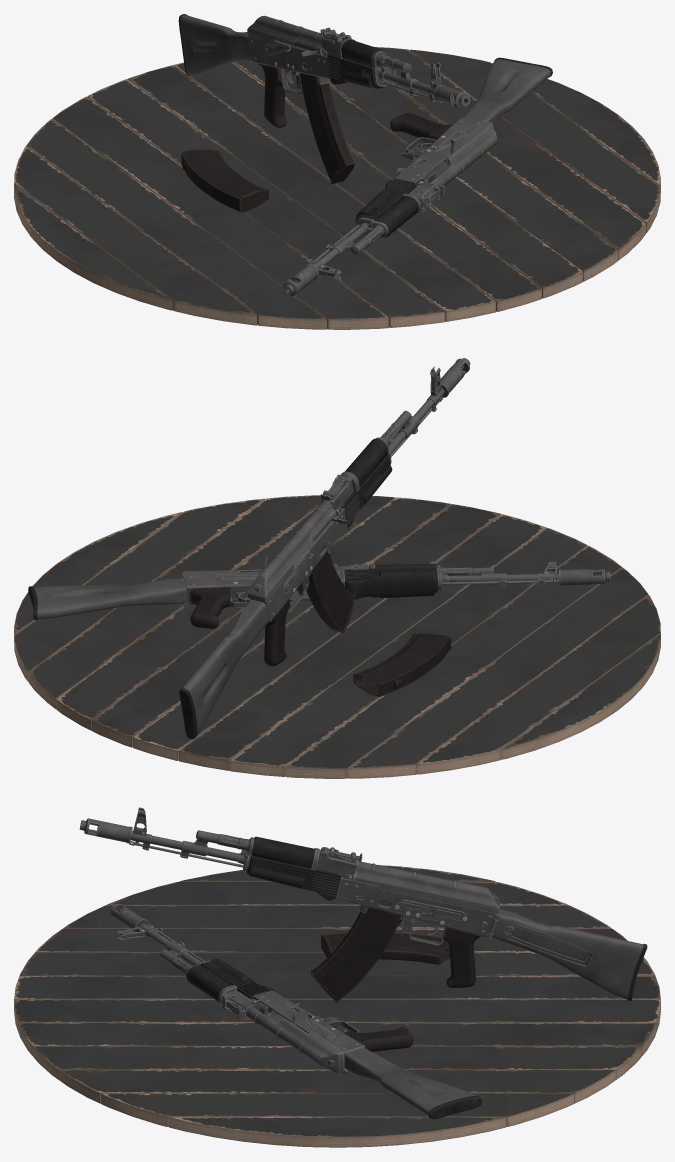
The picture shows the model from 3 angles, top to bottom: view 1: azimuth 30°, elevation 25°; view 2: azimuth 150°, elevation 25°; view 3: azimuth 270°, elevation 25°; orthographic projection.
Visible parts, largest first — view 1: platform_plank_Planks_0, topCoverRelease_low_ak74m_0; view 2: platform_plank_Planks_0, topCoverRelease_low_ak74m_0; view 3: platform_plank_Planks_0, topCoverRelease_low_ak74m_0.
Boxes of the visible parts, x1,y1,x2,y2 form: platform_plank_Planks_0: (14, 47, 660, 329); topCoverRelease_low_ak74m_0: (178, 14, 552, 296); platform_plank_Planks_0: (14, 495, 660, 778); topCoverRelease_low_ak74m_0: (28, 358, 610, 739); platform_plank_Planks_0: (14, 865, 660, 1147); topCoverRelease_low_ak74m_0: (79, 807, 647, 1119).
Size of the model in its own units: 1.05 by 0.3626 by 1.05.
2 materials, 2 textured.
